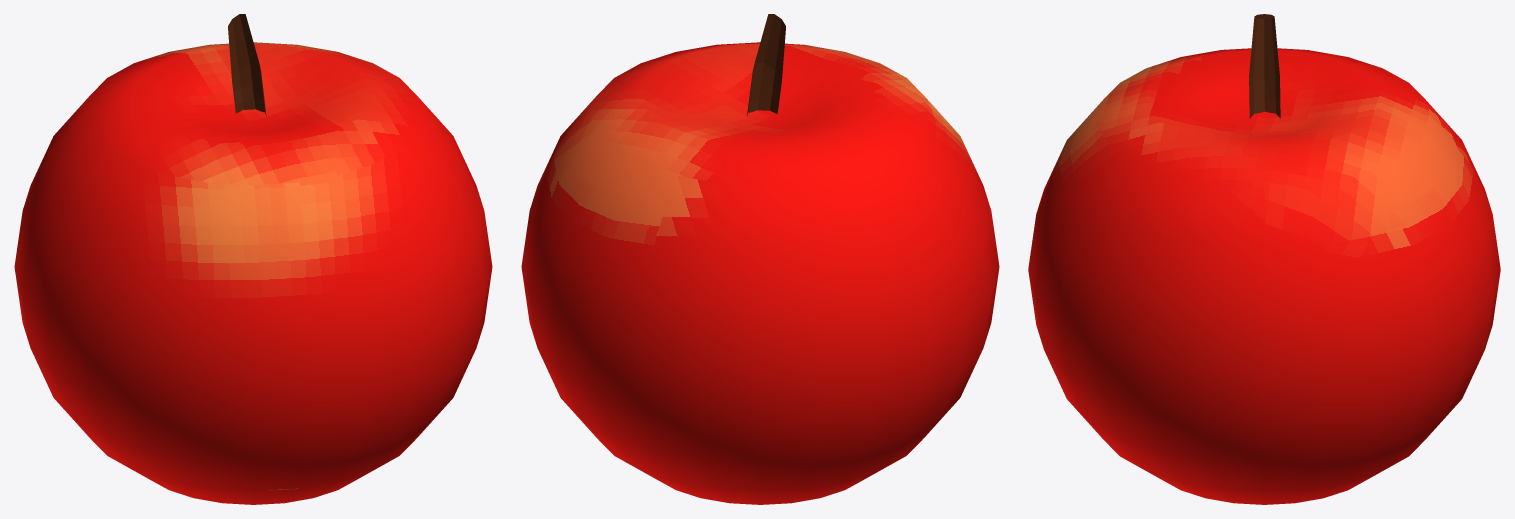
File: apple.fbx
The picture shows the model from 3 angles, left to right: view 1: azimuth 30°, elevation 25°; view 2: azimuth 150°, elevation 25°; view 3: azimuth 270°, elevation 25°; orthographic projection.
Visible parts, largest first — view 1: Sphere; view 2: Sphere; view 3: Sphere.
Boxes of the visible parts, x1,y1,x2,y2 form: Sphere: [14, 14, 492, 504]; Sphere: [521, 14, 999, 504]; Sphere: [1028, 14, 1500, 504].
Size of the model in its own units: 200 by 218 by 200.
Materials: 1 (1 with a texture image).
